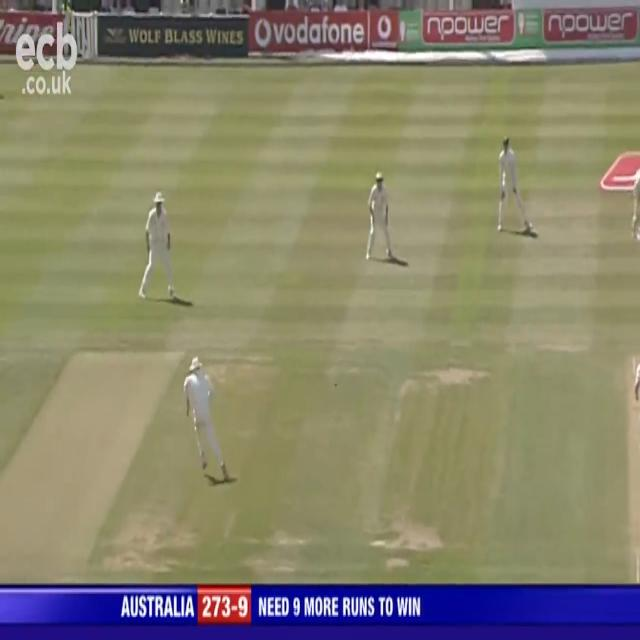ball: (330, 378, 340, 392)
